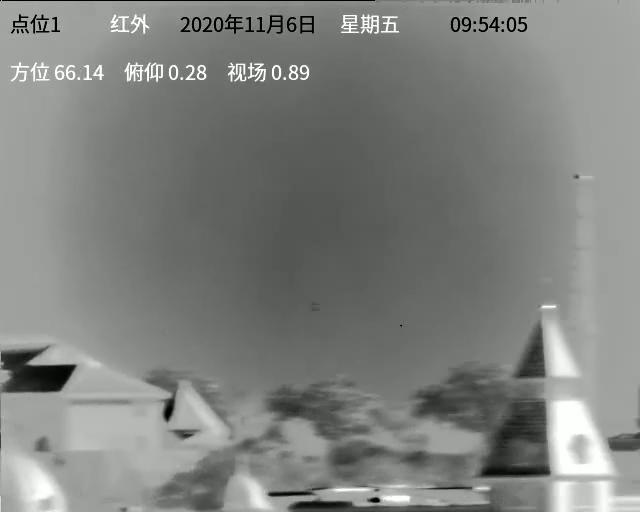uav: (310, 302, 323, 312)
